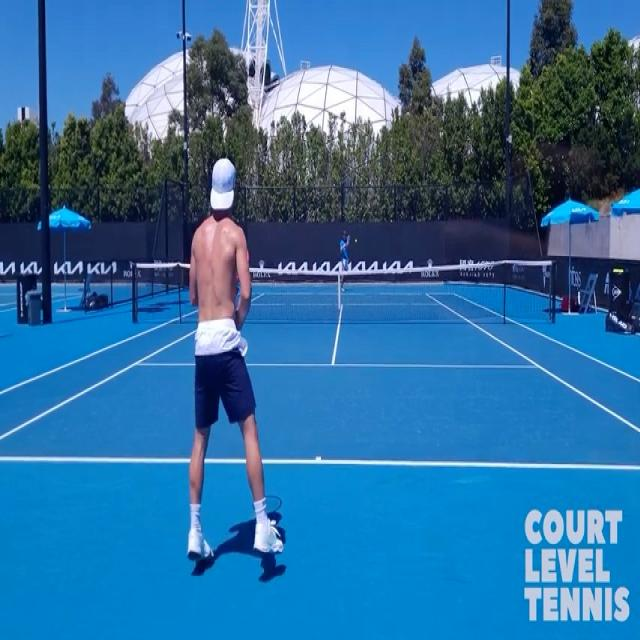ready-position: (178, 157, 291, 564)
